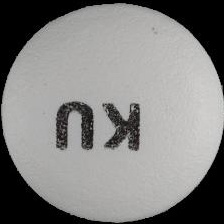42291-635: (0, 0, 224, 224)
